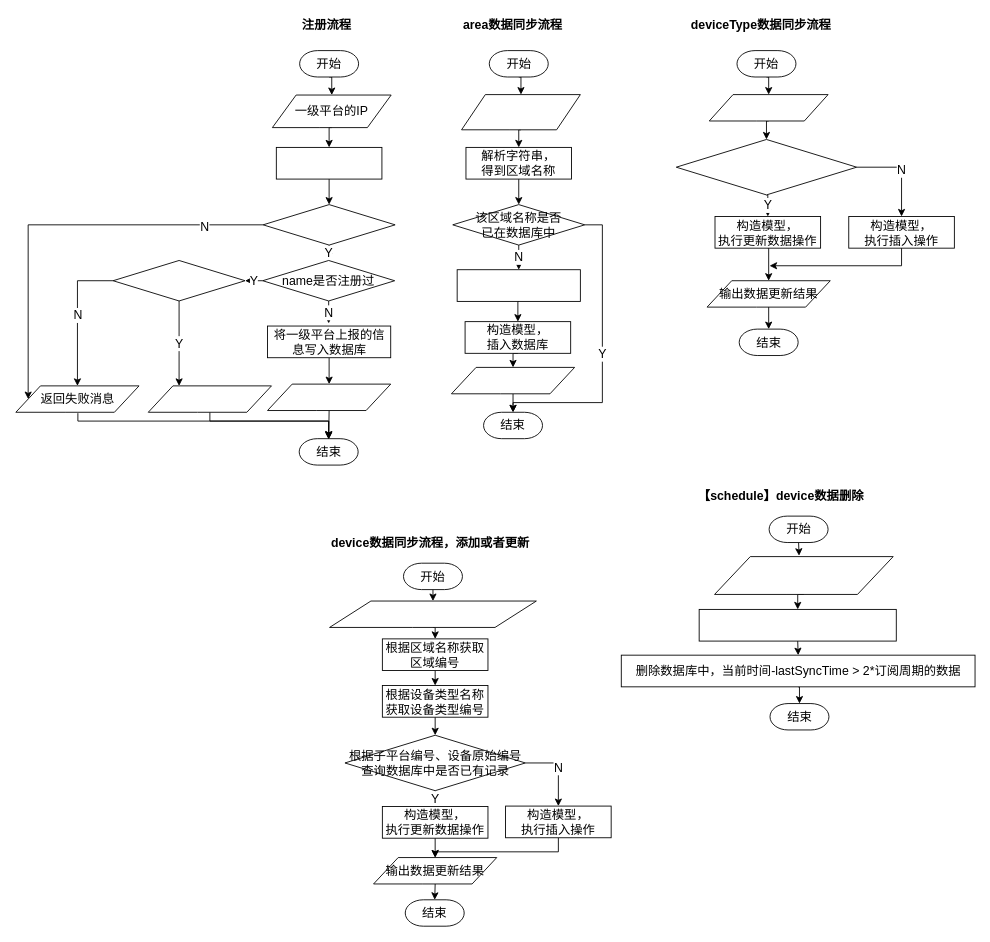
This 990x942 diagram has some shape labels left out. Each missing label, with the centre of its shape:
IP是否相同: the point at 178,280
查询对该平台设置的订阅周期: the point at 797,625
查询白名单: the point at 328,163
根据子平台编号、设备类型原始编号查询数据库中是否已有记录: the point at 766,167
获取父区域的编号 getAreaIdByName(): the point at 518,285
该IP是否在白名单中: the point at 328,224
输入area字符串： “xx省-xx市-xx区”: the point at 520,112
输入原始编号、 设备类型名称: the point at 768,107
输入设备原始编号、设备名称、设备类型名称、设备区域、: the point at 432,613
输入设备的lastSyncTime，childplatformId: the point at 803,575
输出数据写入结果: the point at 329,397
输出更新结果: the point at 513,380
返回成功消息: the point at 209,398
